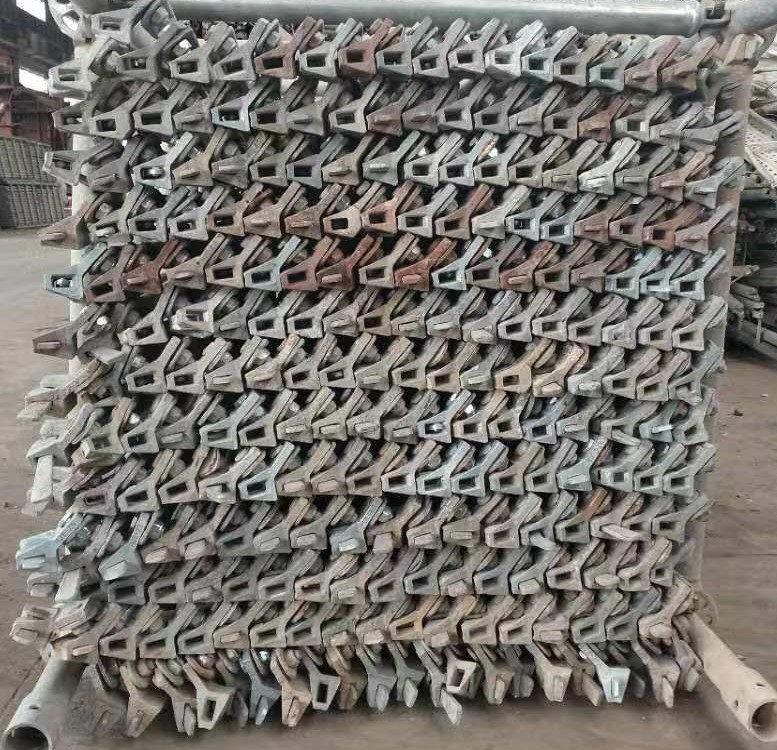sigma_steel: (90, 12, 135, 45), (49, 62, 94, 95), (114, 50, 158, 83), (195, 693, 231, 730), (309, 672, 341, 712), (165, 213, 209, 242), (73, 488, 117, 517), (169, 55, 211, 85), (44, 150, 81, 184), (204, 259, 244, 289), (117, 485, 159, 513), (283, 159, 322, 189), (213, 56, 256, 83), (133, 108, 173, 137), (127, 213, 167, 242), (446, 661, 480, 695), (376, 45, 412, 77), (329, 106, 367, 136), (127, 318, 169, 345), (80, 431, 122, 458), (247, 158, 286, 187), (300, 47, 336, 78), (412, 50, 448, 81), (400, 159, 441, 186), (206, 209, 244, 238), (394, 210, 432, 239), (147, 576, 185, 605), (256, 52, 295, 80), (25, 394, 67, 420), (159, 475, 198, 503), (291, 575, 330, 603), (251, 104, 287, 134), (84, 276, 124, 303), (198, 423, 238, 450), (123, 370, 166, 395), (176, 306, 214, 334), (52, 106, 91, 133), (590, 63, 626, 92), (92, 114, 129, 142), (323, 210, 360, 238), (436, 213, 473, 241), (341, 47, 376, 76), (553, 59, 588, 88), (509, 160, 544, 189), (506, 212, 541, 241), (642, 221, 677, 250), (494, 366, 529, 395), (448, 46, 484, 74), (214, 104, 250, 132), (245, 265, 281, 293), (247, 313, 285, 339), (108, 580, 146, 606), (285, 623, 323, 649), (476, 106, 510, 135), (406, 567, 441, 595), (362, 208, 398, 235), (490, 468, 526, 495), (258, 576, 294, 603), (610, 216, 643, 245), (608, 271, 641, 300), (383, 468, 417, 496), (165, 368, 203, 393), (238, 478, 276, 503), (247, 623, 285, 648), (441, 160, 476, 187), (282, 266, 317, 293), (357, 309, 392, 336), (547, 565, 582, 592), (214, 534, 253, 558), (223, 577, 259, 603), (369, 577, 405, 603), (488, 50, 520, 79), (546, 111, 579, 139), (488, 413, 522, 440), (475, 160, 510, 186), (453, 417, 488, 443), (450, 470, 485, 496), (100, 633, 135, 659), (669, 274, 705, 299), (391, 365, 427, 390), (675, 420, 711, 445), (475, 571, 511, 596), (348, 469, 381, 496), (285, 314, 322, 338), (122, 429, 159, 453), (439, 105, 473, 131), (284, 364, 318, 390), (464, 619, 498, 645), (426, 369, 461, 394), (485, 525, 520, 550), (523, 55, 553, 84), (498, 318, 534, 342), (639, 324, 672, 350), (138, 635, 175, 658), (174, 630, 211, 653), (432, 266, 466, 291), (598, 468, 632, 493), (616, 116, 651, 140), (359, 265, 394, 289), (605, 374, 636, 401), (662, 471, 693, 498), (537, 266, 569, 292), (239, 424, 275, 447), (570, 620, 606, 643), (467, 265, 500, 290), (673, 326, 706, 351), (636, 378, 669, 403), (499, 620, 533, 644), (634, 469, 663, 497), (655, 516, 685, 543), (419, 471, 450, 497), (526, 468, 557, 494), (570, 321, 603, 345), (537, 317, 568, 342), (620, 568, 651, 593), (606, 616, 636, 641), (386, 618, 420, 640), (543, 221, 574, 245), (525, 422, 556, 446), (605, 327, 635, 350), (623, 517, 653, 540), (559, 519, 588, 542), (649, 565, 673, 587)
sigma_steel_blocked: (85, 700, 124, 741), (126, 698, 160, 742), (247, 686, 280, 727), (44, 269, 85, 301), (38, 222, 80, 252), (398, 669, 430, 708), (32, 330, 75, 359), (85, 167, 130, 194), (167, 260, 206, 291), (282, 686, 311, 727), (541, 665, 572, 703), (16, 546, 56, 575), (651, 663, 680, 703), (83, 217, 129, 242), (132, 161, 173, 189), (280, 212, 322, 239), (99, 553, 141, 580), (286, 109, 325, 138), (599, 668, 631, 703), (367, 674, 397, 711), (506, 109, 544, 138), (484, 669, 514, 705), (611, 168, 648, 197), (574, 216, 611, 245), (173, 161, 214, 187), (125, 266, 163, 294), (329, 577, 367, 605), (170, 696, 198, 734), (359, 158, 398, 185), (391, 265, 430, 292), (8, 621, 47, 648), (660, 64, 697, 92), (23, 445, 70, 467), (314, 267, 355, 292), (369, 106, 403, 136), (215, 159, 250, 188), (205, 369, 244, 395), (403, 524, 442, 550), (649, 174, 685, 202), (197, 477, 239, 501), (56, 562, 98, 586), (59, 639, 99, 664), (426, 314, 463, 341), (390, 313, 428, 339), (142, 539, 180, 565), (244, 368, 285, 392), (188, 577, 223, 605), (317, 363, 356, 388), (471, 214, 507, 241), (276, 418, 313, 444), (179, 534, 217, 559), (288, 527, 326, 552), (544, 167, 579, 194), (245, 212, 280, 239), (323, 159, 359, 185), (214, 314, 250, 340), (331, 529, 367, 555), (380, 420, 417, 445), (676, 226, 709, 254), (648, 123, 682, 150), (580, 168, 614, 195), (571, 265, 605, 292), (174, 108, 212, 132), (276, 471, 314, 495), (341, 674, 365, 712), (403, 106, 438, 132), (356, 365, 391, 391), (158, 425, 194, 450), (444, 521, 480, 546), (511, 662, 537, 696), (532, 620, 570, 643), (687, 180, 718, 208), (253, 529, 289, 553), (354, 621, 390, 645), (439, 571, 473, 596), (464, 319, 499, 343), (589, 514, 624, 538), (509, 571, 544, 595), (626, 67, 659, 92), (501, 267, 534, 292), (419, 417, 452, 442), (556, 467, 589, 492), (324, 312, 358, 336), (314, 471, 348, 495), (367, 527, 404, 549), (558, 418, 589, 444), (669, 377, 701, 402), (314, 418, 347, 442), (347, 415, 380, 439), (214, 626, 247, 650), (24, 577, 58, 600), (580, 115, 611, 140), (320, 622, 355, 644), (636, 617, 671, 639), (574, 665, 596, 700), (685, 127, 717, 151), (519, 524, 555, 545), (641, 274, 671, 299), (461, 368, 491, 393), (532, 376, 566, 398), (639, 421, 673, 443), (586, 568, 617, 592), (421, 625, 457, 645), (573, 376, 604, 399), (601, 420, 632, 442)
